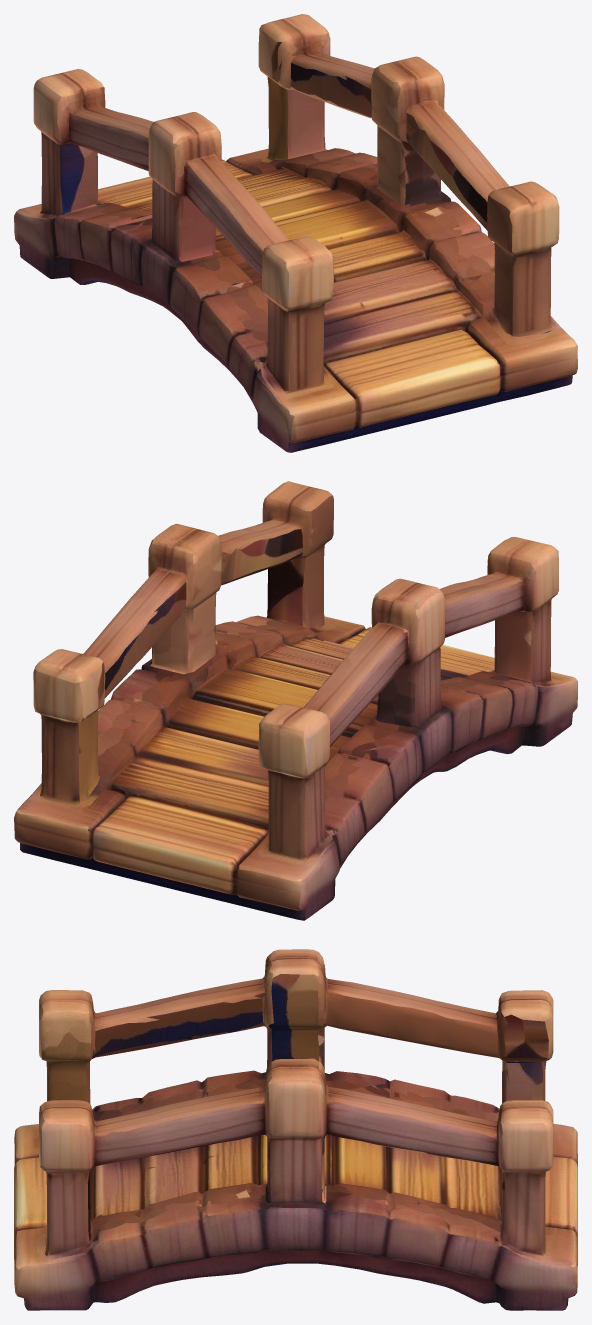
File: bridge.glb
3 views of the same model, one above another, from view 1: azimuth 30°, elevation 25°; view 2: azimuth 150°, elevation 25°; view 3: azimuth 270°, elevation 25° (orthographic).
Visible parts, largest first — view 1: bridge_s15; view 2: bridge_s15; view 3: bridge_s15.
Boxes of the visible parts, bbox=[...] form: bridge_s15: bbox=[14, 14, 577, 452]; bridge_s15: bbox=[14, 481, 577, 920]; bridge_s15: bbox=[14, 949, 577, 1310].
Bounding box in the file's own units: 0.5976 × 0.4508 × 1.
Materials: 1 (1 with a texture image).
